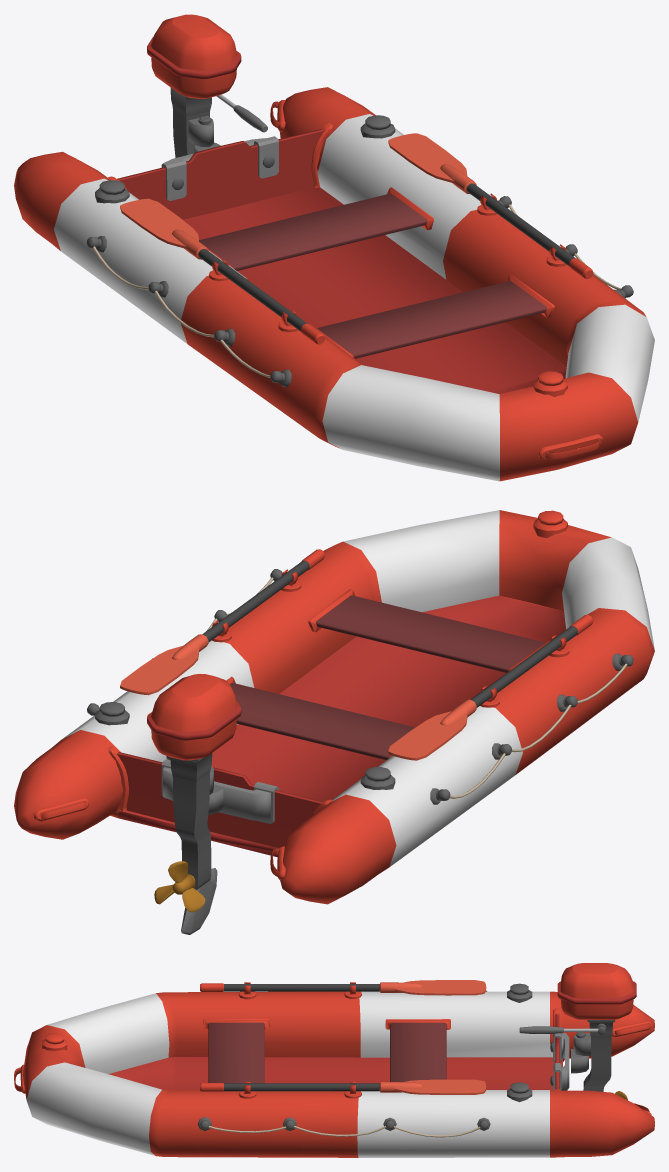
File: PontoonBoat.gltf
The picture shows the model from 3 angles, top to bottom: view 1: azimuth 30°, elevation 25°; view 2: azimuth 150°, elevation 25°; view 3: azimuth 270°, elevation 25°; orthographic projection. The views are drawn at different scales.
Parts seen in each view (by area): view 1: body; view 2: body; view 3: body.
Part boxes in pixels (left/top/right/bottom): body: left=14, top=14, right=654, bottom=481; body: left=14, top=510, right=654, bottom=934; body: left=14, top=963, right=654, bottom=1157.
Bounding box in the file's own units: 2.2 × 1.44 × 4.45.
Materials: 1 (1 with a texture image).
